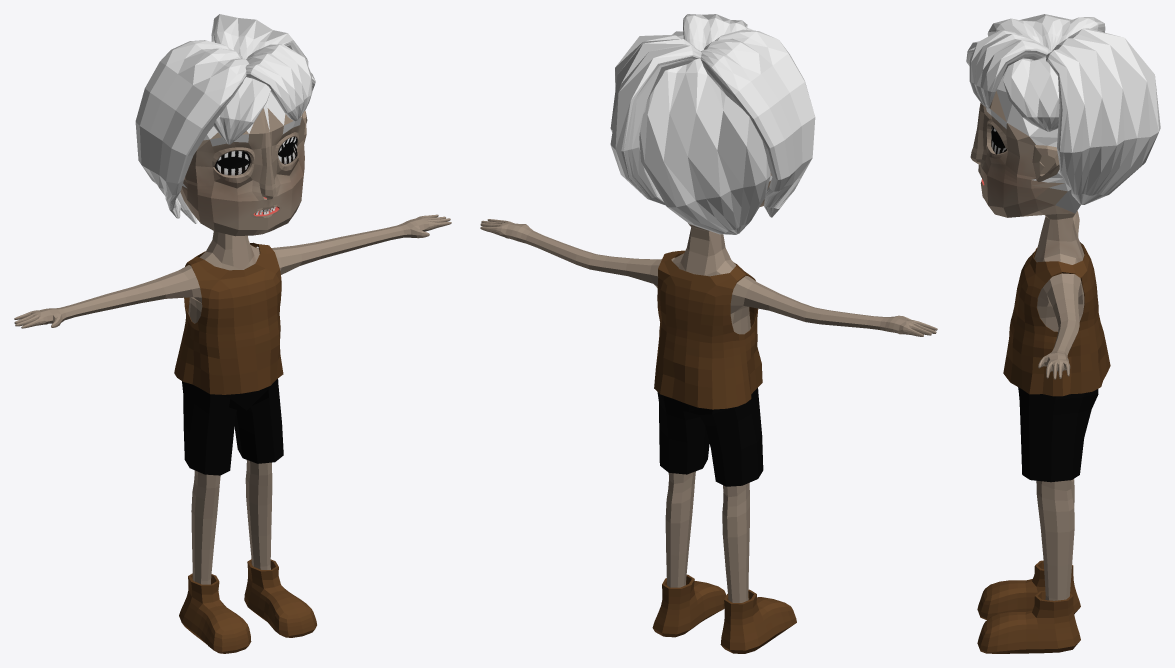
Rendered from character_LOD2.fbx.
3 renders of one model, left to right at view 1: azimuth 30°, elevation 25°; view 2: azimuth 150°, elevation 25°; view 3: azimuth 270°, elevation 25°, orthographic. The views are drawn at different scales.
Visible parts, largest first — view 1: character_LOD2; view 2: character_LOD2; view 3: character_LOD2.
Boxes of the visible parts, x1=… form: character_LOD2: x1=14, y1=14, x2=451, y2=653; character_LOD2: x1=480, y1=14, x2=937, y2=653; character_LOD2: x1=966, y1=14, x2=1160, y2=653.
Bounding box in the file's own units: 2340 × 2979 × 865.
